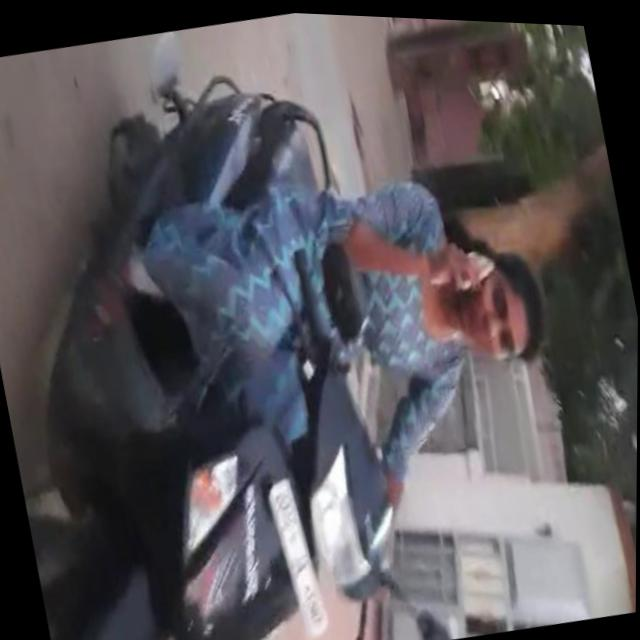USING_MOBILE: (339, 183, 510, 303)
